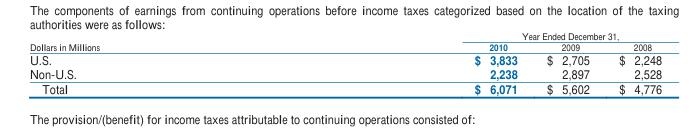table: (28, 29, 661, 96)
table column: (28, 29, 286, 96), (286, 29, 531, 96), (531, 29, 603, 96), (603, 29, 661, 96)
table column header: (28, 29, 661, 51)
table row: (28, 80, 661, 96), (28, 51, 661, 66), (28, 66, 661, 80), (28, 29, 661, 40), (28, 40, 661, 51)
table spanning cell: (28, 29, 286, 51), (286, 29, 661, 40)
